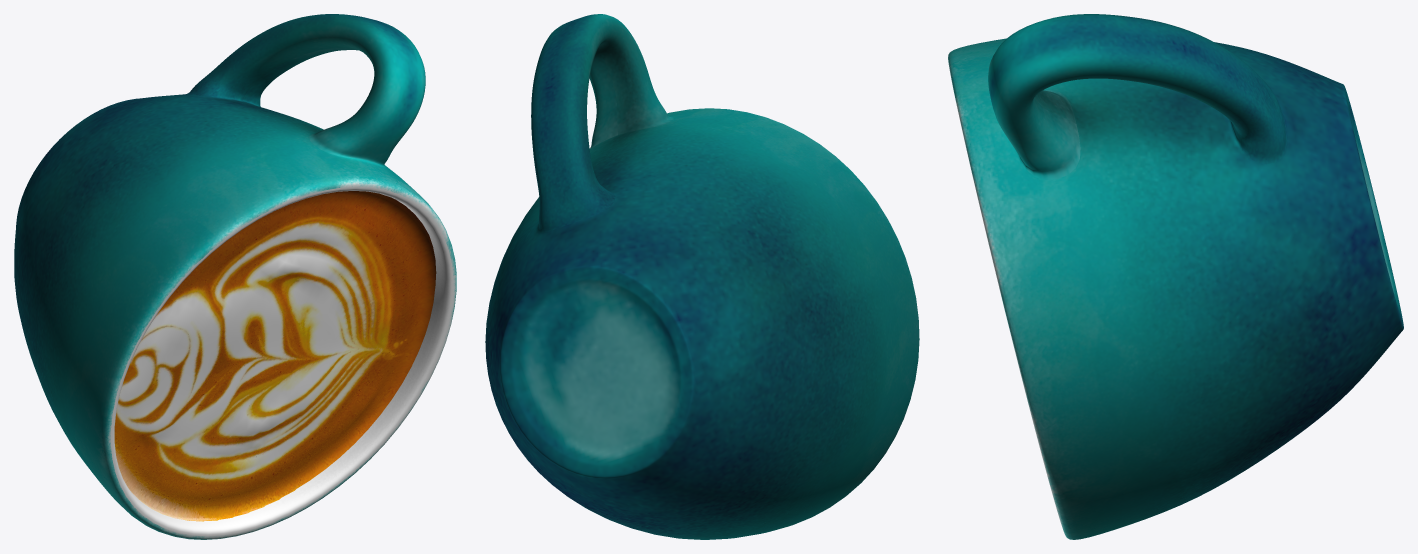
File: coffee_cup.obj
The picture shows the model from 3 angles, left to right: view 1: azimuth 30°, elevation 25°; view 2: azimuth 150°, elevation 25°; view 3: azimuth 270°, elevation 25°; orthographic projection. The views are drawn at different scales.
Visible parts, largest first — view 1: dynamic; view 2: dynamic; view 3: dynamic.
Boxes of the visible parts, bbox=[...] form: dynamic: bbox=[14, 14, 456, 539]; dynamic: bbox=[485, 14, 919, 539]; dynamic: bbox=[948, 14, 1403, 539].
Size of the model in its own units: 1276 by 1581 by 1150.
2 materials, 2 textured.
